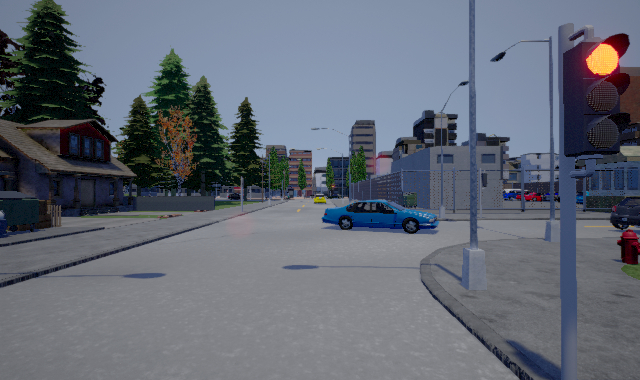traffic_light: (562, 32, 631, 155)
vehicle: (321, 200, 439, 234), (610, 197, 640, 230), (313, 193, 326, 205)
